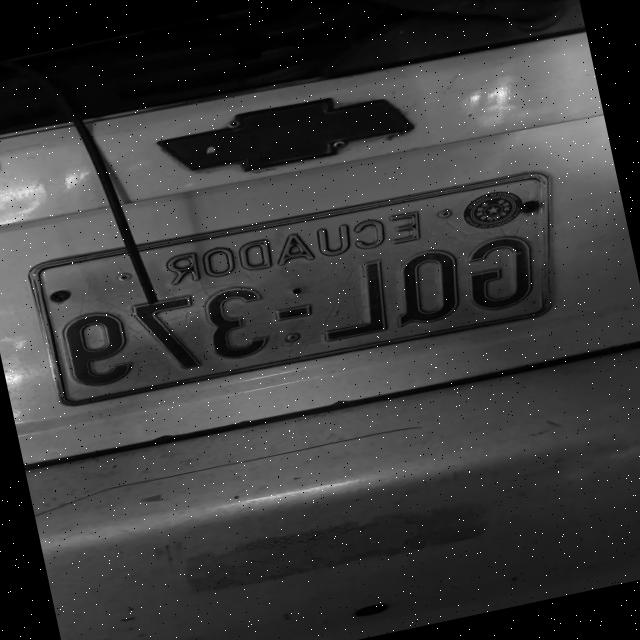Placa: (30, 174, 548, 404)
